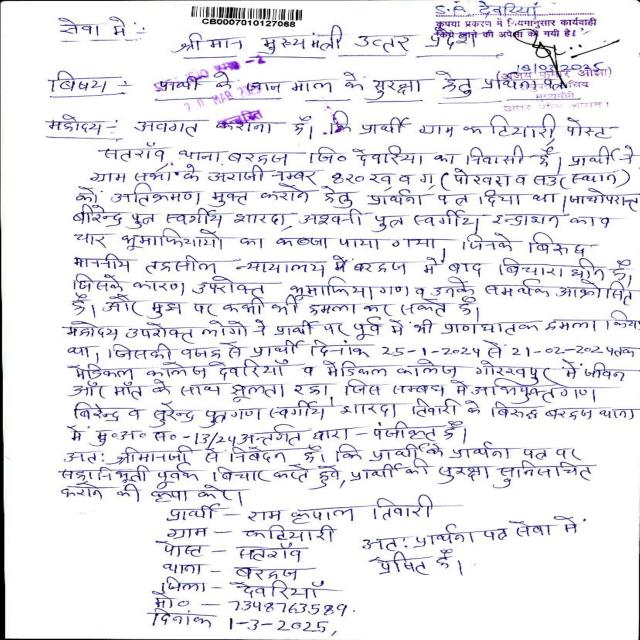antritgovtstamp: (153, 53, 291, 133)
barcode: (186, 6, 306, 32)
signnamestamp: (492, 30, 617, 116)
